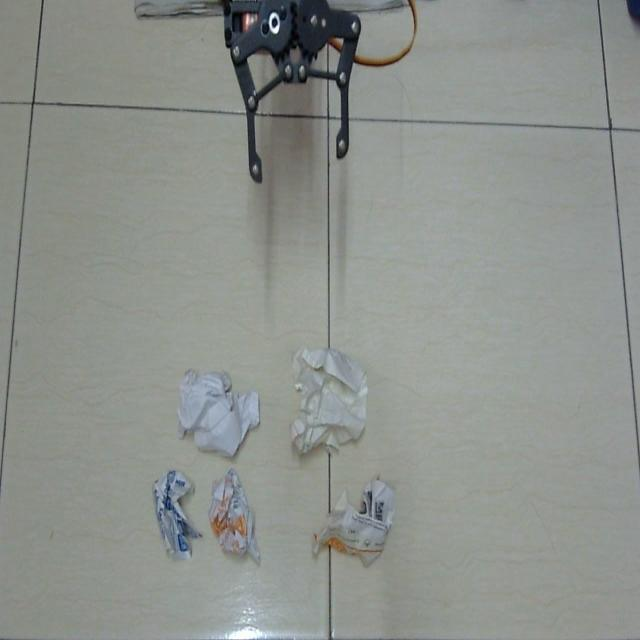Paperrotation: (284, 340, 371, 460), (309, 473, 403, 575), (173, 366, 271, 462), (207, 469, 264, 570), (146, 467, 203, 560)
